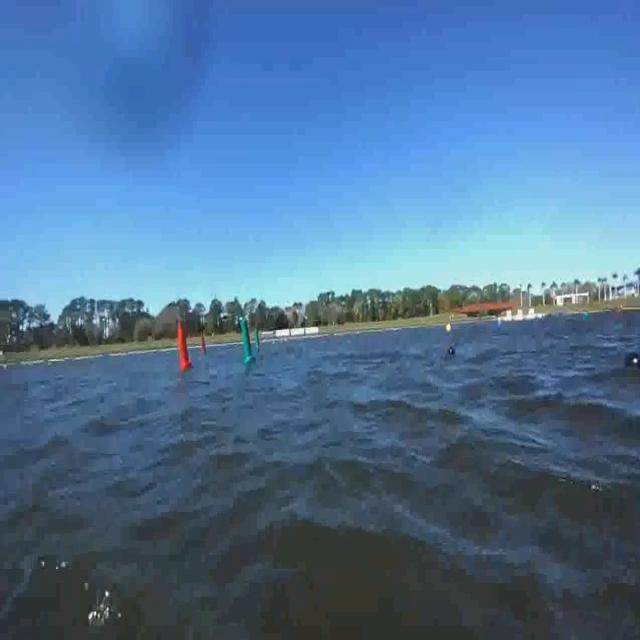green-column-buoy: (240, 318, 256, 364), (255, 328, 261, 352)
red-column-buoy: (176, 322, 192, 370), (200, 335, 208, 355)
yellow-buoy: (446, 322, 454, 334)
